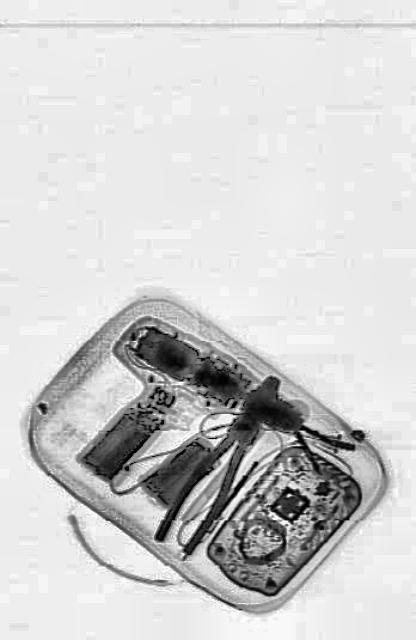Pliers: (150, 351, 288, 573)
